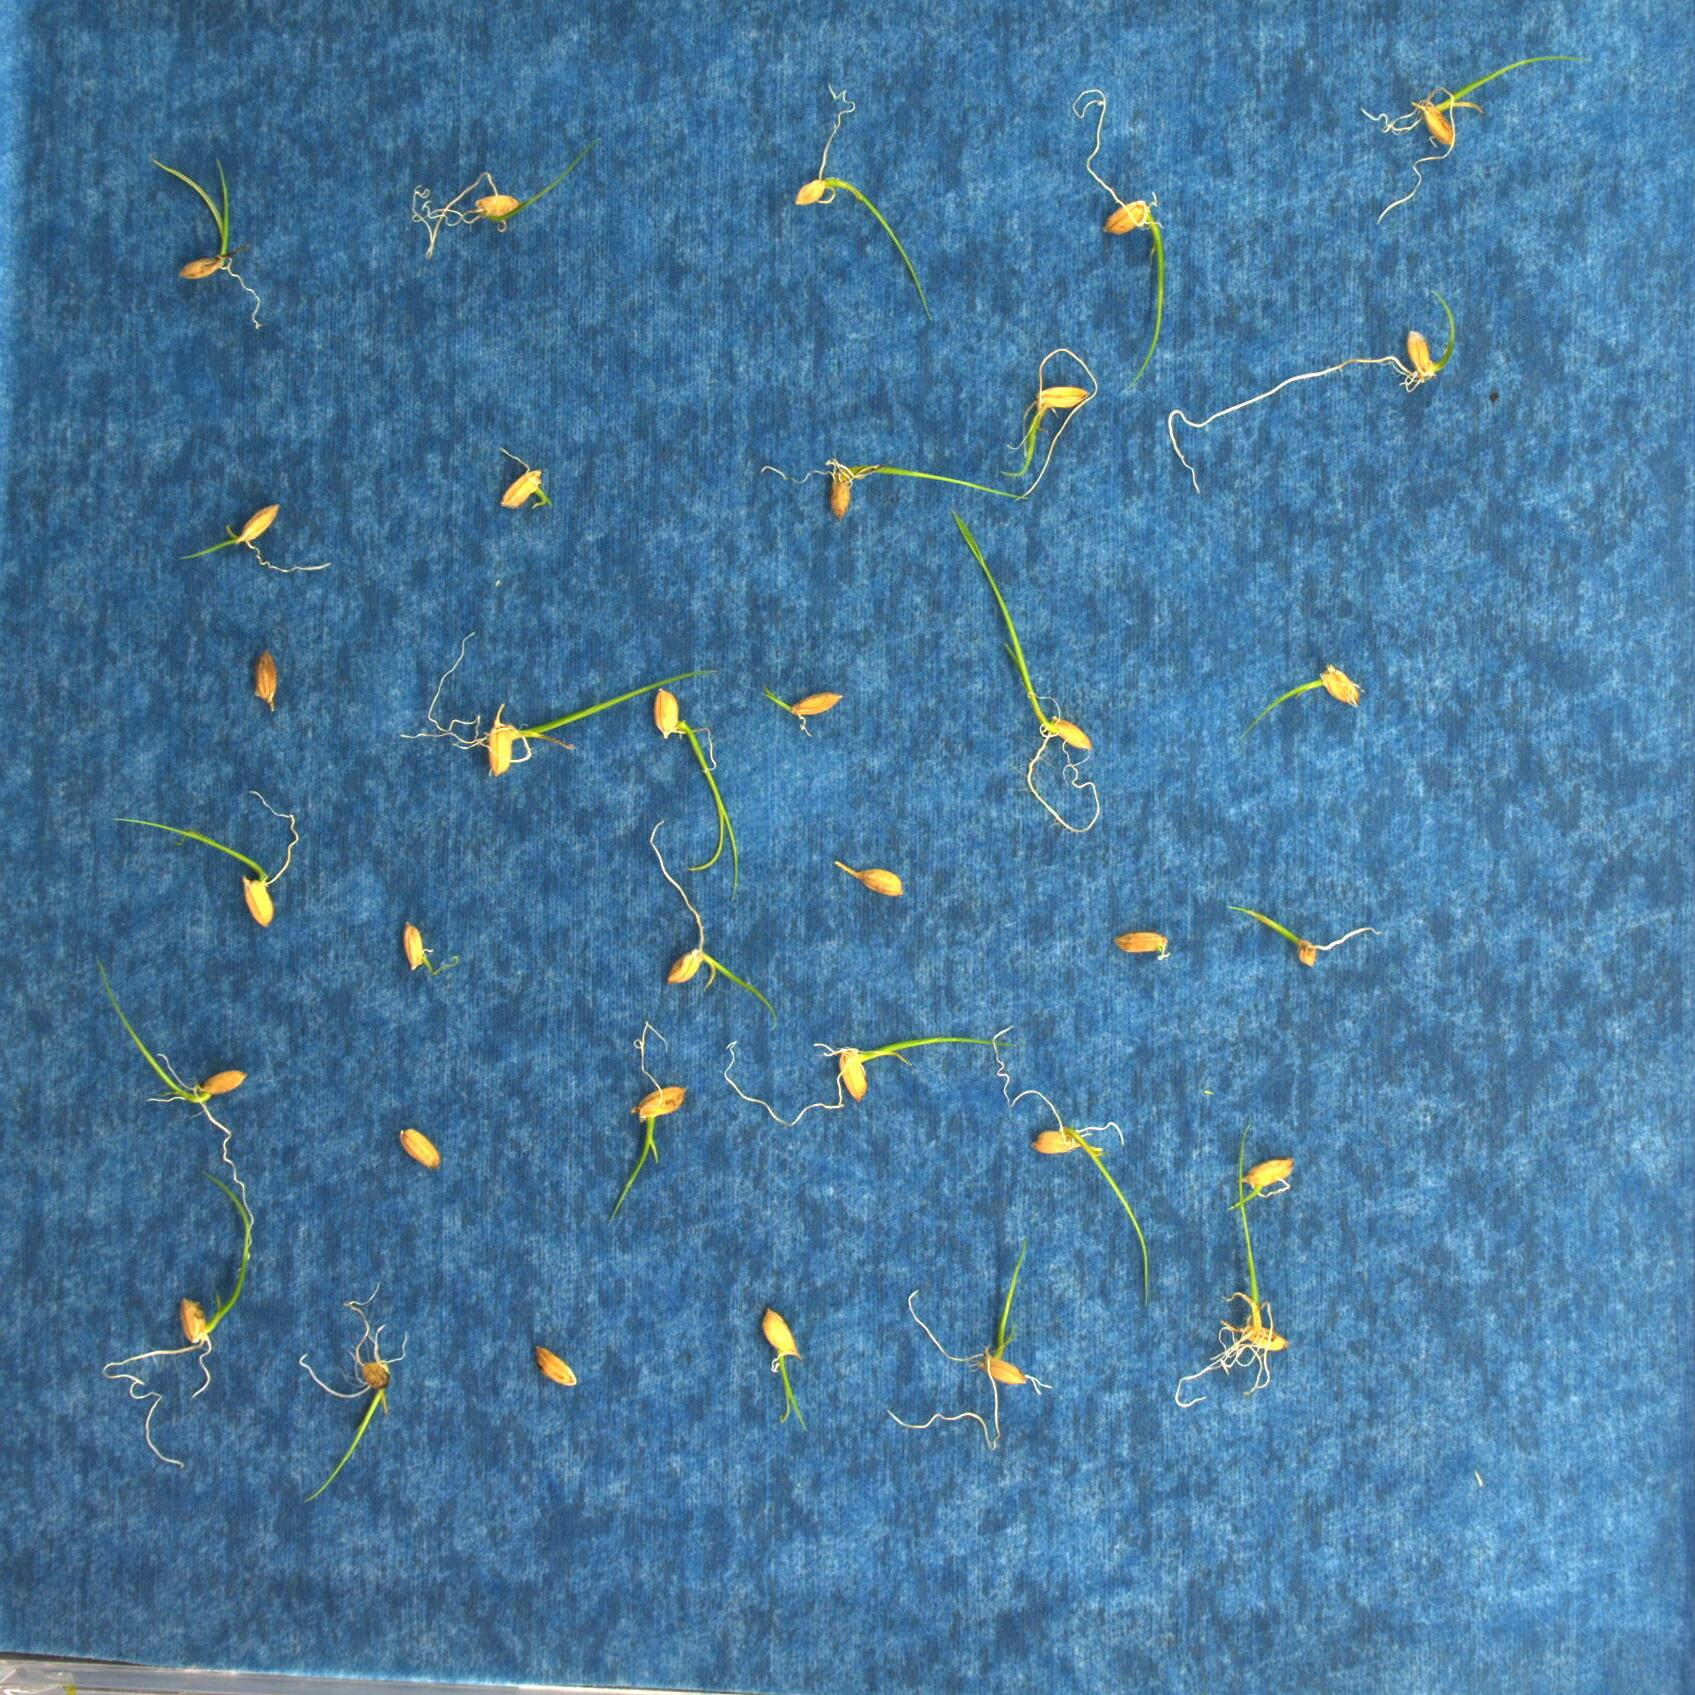not sprout: (498, 445, 560, 515), (397, 920, 449, 993), (834, 855, 910, 903), (400, 1122, 447, 1177), (529, 1347, 577, 1392), (251, 647, 282, 714), (1114, 930, 1173, 961)
sprout: (1169, 282, 1462, 498), (944, 503, 1107, 840), (88, 959, 258, 1270), (99, 1167, 258, 1475), (400, 627, 716, 778), (1360, 47, 1593, 230), (792, 78, 941, 328), (1170, 1121, 1291, 1419), (1007, 1083, 1159, 1318), (886, 1253, 1052, 1456), (1069, 82, 1173, 400), (649, 810, 782, 1035), (293, 1277, 418, 1512), (107, 785, 303, 931), (726, 1029, 1007, 1127), (144, 147, 272, 335), (405, 141, 601, 261), (646, 681, 750, 903), (754, 453, 1031, 525), (602, 1035, 689, 1229), (1003, 343, 1094, 509), (179, 501, 338, 577), (1225, 899, 1385, 969), (1236, 661, 1364, 740), (754, 1301, 813, 1437), (747, 680, 849, 736), (1225, 1152, 1296, 1214)
